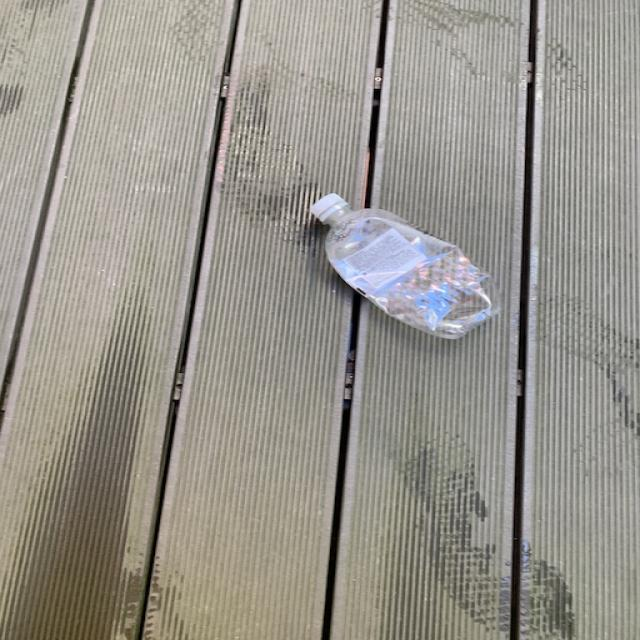Waste: (311, 193, 495, 339)
